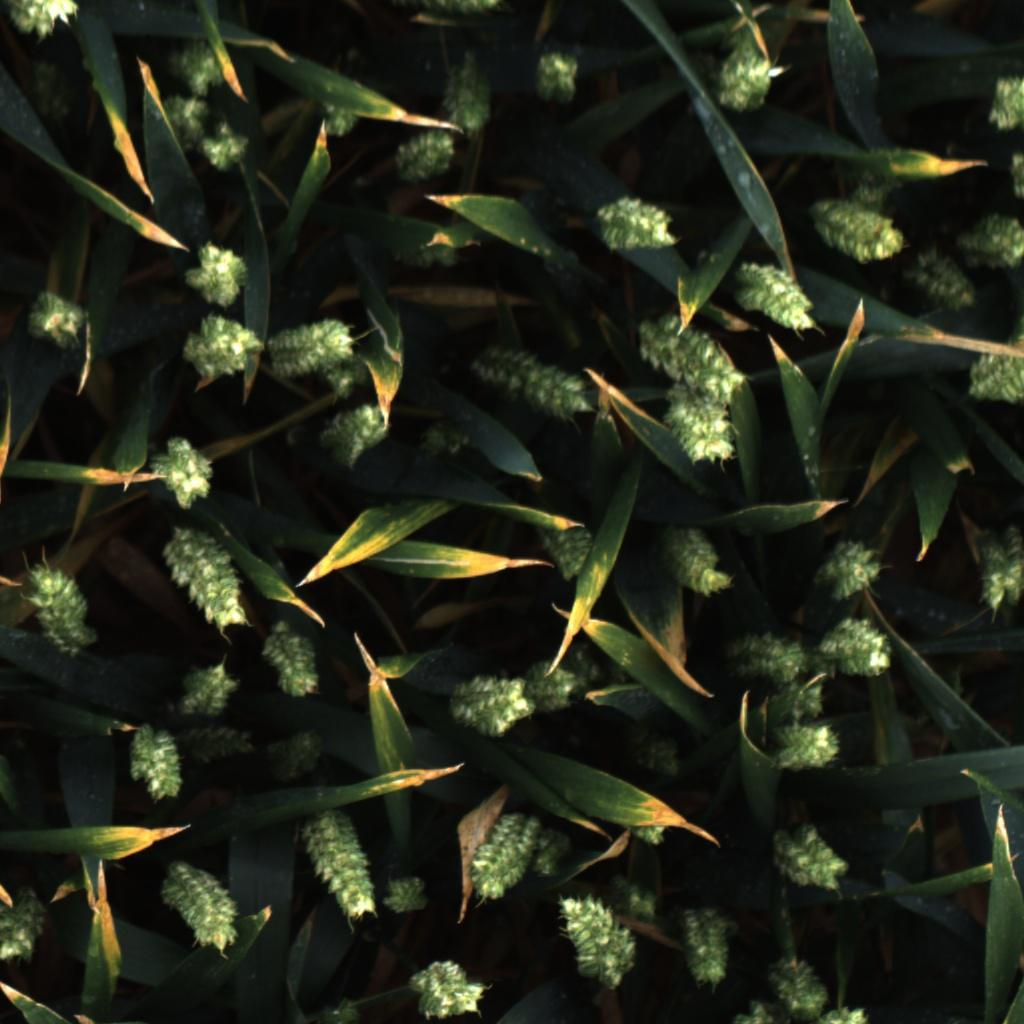0-0: (161, 523, 255, 637), (469, 342, 591, 427), (634, 319, 744, 401), (296, 815, 379, 921), (155, 860, 243, 956), (19, 554, 95, 657), (730, 261, 824, 342), (559, 886, 634, 987), (761, 818, 850, 899), (464, 811, 543, 902), (809, 199, 912, 267), (653, 525, 744, 601), (593, 188, 680, 267), (264, 309, 352, 385), (442, 664, 536, 735), (175, 311, 263, 384), (808, 530, 890, 603), (664, 395, 741, 472), (818, 610, 895, 686), (405, 958, 493, 1024), (959, 320, 1024, 408), (671, 901, 734, 991), (150, 431, 218, 514), (258, 620, 324, 705), (707, 44, 785, 115), (899, 247, 978, 317), (721, 621, 807, 685), (21, 281, 95, 354), (183, 236, 250, 315), (384, 121, 465, 186), (440, 48, 498, 138), (971, 518, 1024, 615), (765, 952, 841, 1019), (123, 720, 185, 802), (764, 718, 848, 778), (160, 33, 236, 97), (316, 403, 383, 475), (956, 209, 1024, 279), (0, 877, 52, 967), (267, 723, 338, 784), (159, 91, 221, 158), (528, 44, 589, 111), (524, 651, 583, 720), (194, 114, 257, 177), (180, 723, 260, 772), (174, 658, 238, 719), (539, 524, 603, 582), (766, 678, 833, 729), (981, 65, 1024, 142), (8, 0, 87, 38), (378, 868, 436, 918), (526, 825, 578, 880), (310, 88, 365, 139), (604, 877, 657, 924), (843, 180, 902, 218), (785, 1003, 884, 1024), (1001, 146, 1024, 213), (730, 1001, 791, 1024), (625, 823, 674, 850), (1001, 0, 1024, 16)
